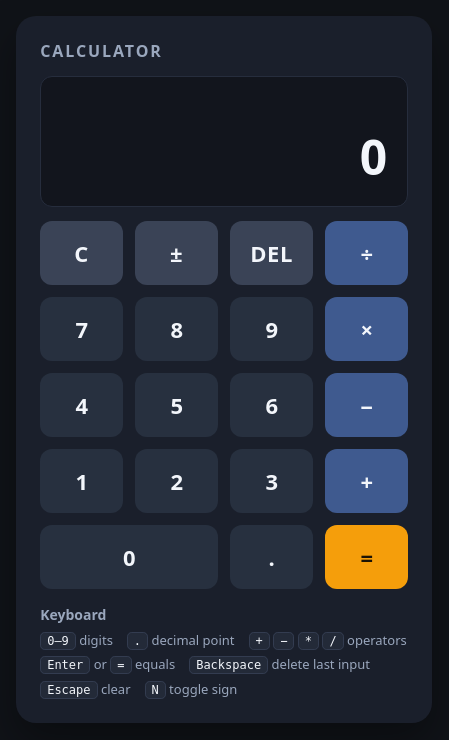
it: App › computes a full calculation and records the finished expression
What coordinates should you click on to do the following:
click the button "1"
I would click on:
 (82, 481)
Its box is x1=40 y1=449 x2=123 y2=513.
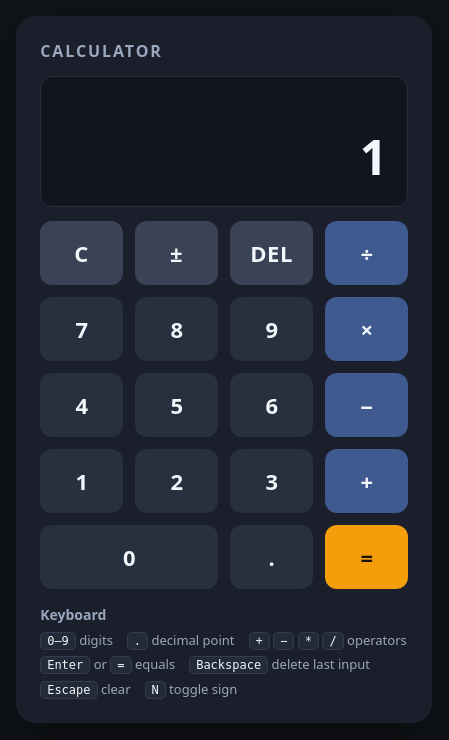
What coordinates should you click on to do the following:
click the button "2"
I would click on:
 (177, 481)
Its box is x1=135 y1=449 x2=218 y2=513.
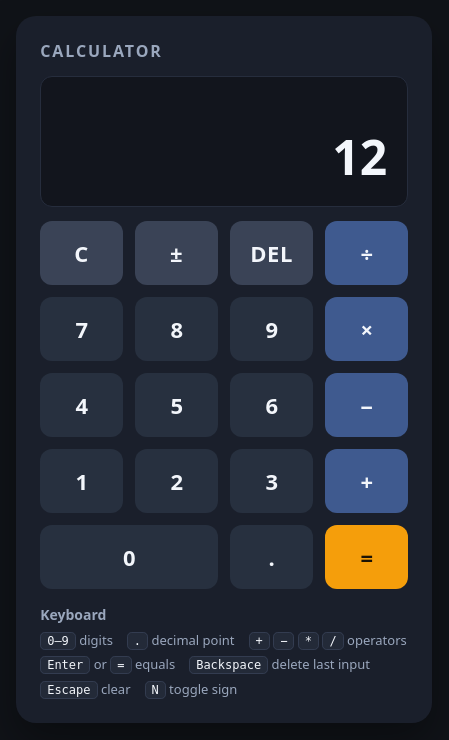
What coordinates should you click on to do the following:
click the button named "add"
I would click on:
 (367, 481)
Its box is x1=325 y1=449 x2=408 y2=513.
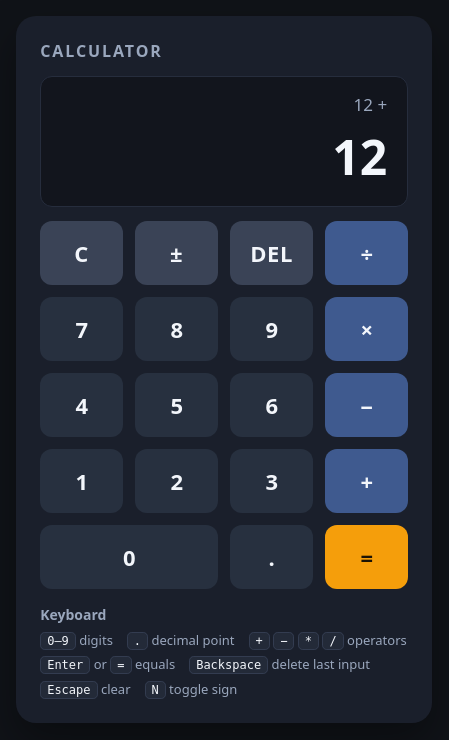
What coordinates should you click on to do the following:
click the button "5"
I would click on:
 (177, 405)
Its box is x1=135 y1=373 x2=218 y2=437.
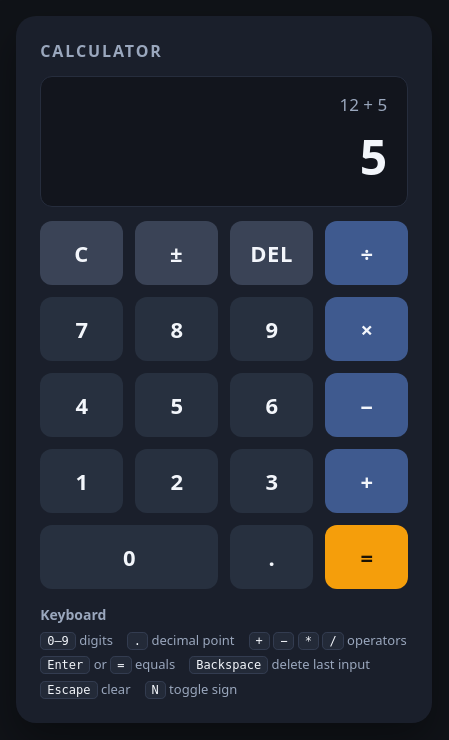
What coordinates should you click on to do the following:
click the button named "equals"
I would click on:
 (367, 557)
Its box is x1=325 y1=525 x2=408 y2=589.
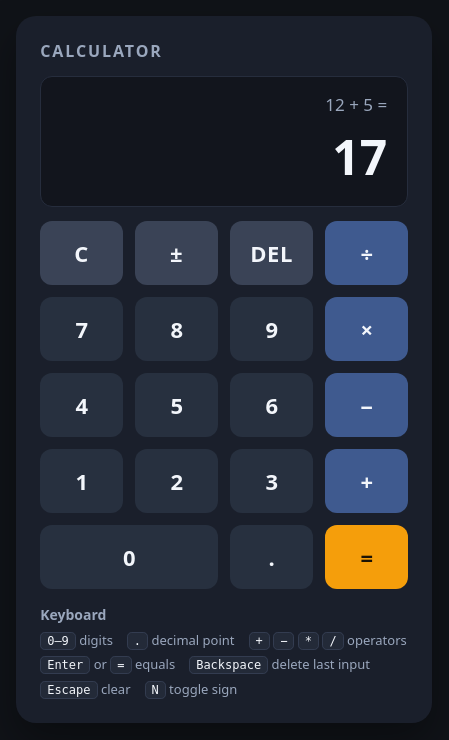
Expected: the message reads "17", x1=332 y1=124 x2=387 y2=189
Expected: the text "12 + 5 =" is shown, x1=325 y1=93 x2=387 y2=116
